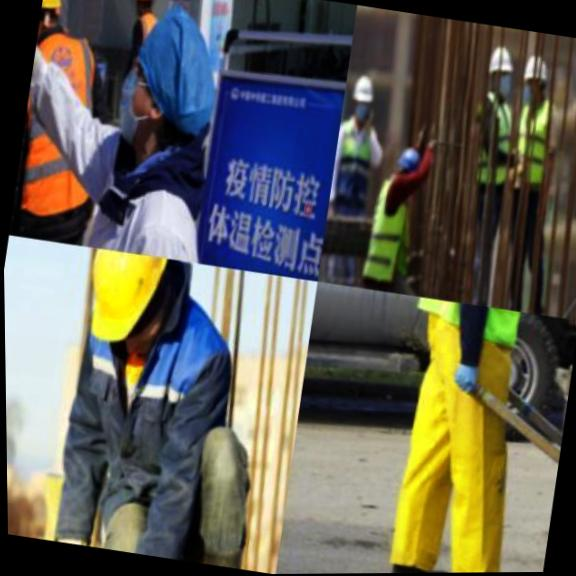safety_vest: (46, 279, 254, 542), (8, 30, 118, 227), (397, 294, 526, 364), (352, 166, 420, 293), (324, 106, 386, 228), (457, 87, 520, 194), (502, 94, 556, 190), (127, 10, 160, 61)
